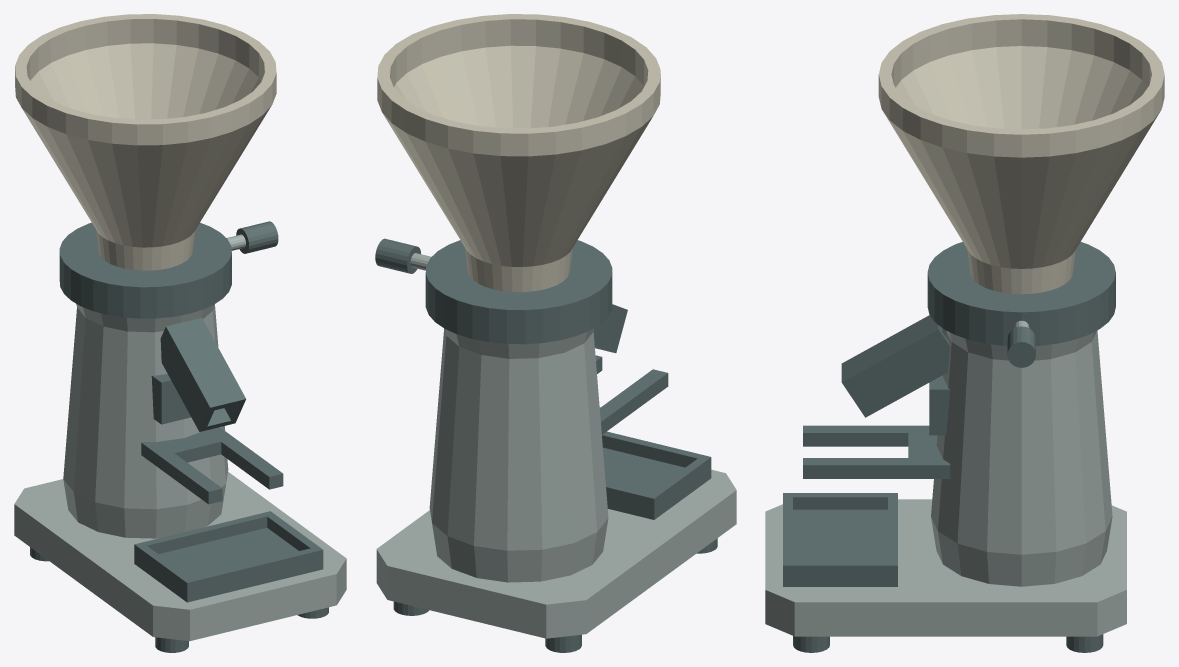
3 renders of one model, left to right at view 1: azimuth 30°, elevation 25°; view 2: azimuth 150°, elevation 25°; view 3: azimuth 270°, elevation 25°, orthographic. The views are drawn at different scales.
Visible parts, largest first — view 1: WholeDeepOpenFlaredHopper, WholeTallFacetedMotorBody, WholeBroadFootedBase, WholeLowCatchWell, WholeUpperAdjustmentCollar, WholeOpenDownwardDeliveryTube, WholeTwinProngPortafilterFork, BlankFrontControlFace, WholeAdjustmentLeverGrip; view 2: WholeDeepOpenFlaredHopper, WholeTallFacetedMotorBody, WholeBroadFootedBase, WholeUpperAdjustmentCollar, WholeLowCatchWell, WholeTwinProngPortafilterFork, WholeAdjustmentLeverGrip, WholeOpenDownwardDeliveryTube, WholeShortFoot_(-0.105, 0.11); view 3: WholeDeepOpenFlaredHopper, WholeTallFacetedMotorBody, WholeBroadFootedBase, WholeUpperAdjustmentCollar, WholeLowCatchWell, WholeOpenDownwardDeliveryTube, WholeTwinProngPortafilterFork, BlankFrontControlFace, WholeAdjustmentLeverGrip, WholeShortFoot_(0.105, 0.11), WholeShortFoot_(0.105, -0.215).
Boxes of the visible parts, x1,y1,x2,y2 form: WholeDeepOpenFlaredHopper: (15, 14, 276, 270); WholeTallFacetedMotorBody: (63, 303, 228, 538); WholeBroadFootedBase: (14, 472, 346, 641); WholeLowCatchWell: (134, 511, 323, 602); WholeUpperAdjustmentCollar: (59, 222, 231, 318); WholeOpenDownwardDeliveryTube: (160, 317, 245, 431); WholeTwinProngPortafilterFork: (141, 427, 283, 504); BlankFrontControlFace: (151, 374, 190, 424); WholeAdjustmentLeverGrip: (236, 221, 278, 253); WholeDeepOpenFlaredHopper: (377, 14, 660, 292); WholeTallFacetedMotorBody: (429, 328, 608, 582); WholeBroadFootedBase: (376, 469, 736, 638); WholeUpperAdjustmentCollar: (425, 240, 612, 344); WholeLowCatchWell: (602, 431, 711, 519); WholeTwinProngPortafilterFork: (595, 355, 668, 434); WholeAdjustmentLeverGrip: (375, 238, 420, 273); WholeOpenDownwardDeliveryTube: (593, 304, 627, 353); WholeShortFoot_(-0.105, 0.11): (545, 634, 581, 652); WholeDeepOpenFlaredHopper: (878, 14, 1164, 294); WholeTallFacetedMotorBody: (931, 330, 1112, 586); WholeBroadFootedBase: (765, 499, 1126, 636); WholeUpperAdjustmentCollar: (927, 242, 1115, 345); WholeLowCatchWell: (783, 493, 897, 586); WholeOpenDownwardDeliveryTube: (841, 315, 949, 417); WholeTwinProngPortafilterFork: (803, 425, 950, 478); BlankFrontControlFace: (929, 375, 950, 435); WholeAdjustmentLeverGrip: (1007, 326, 1035, 367); WholeShortFoot_(0.105, 0.11): (1066, 634, 1103, 652); WholeShortFoot_(0.105, -0.215): (793, 636, 829, 652).
Size of the model in its own units: 0.359 by 0.7 by 0.475.
